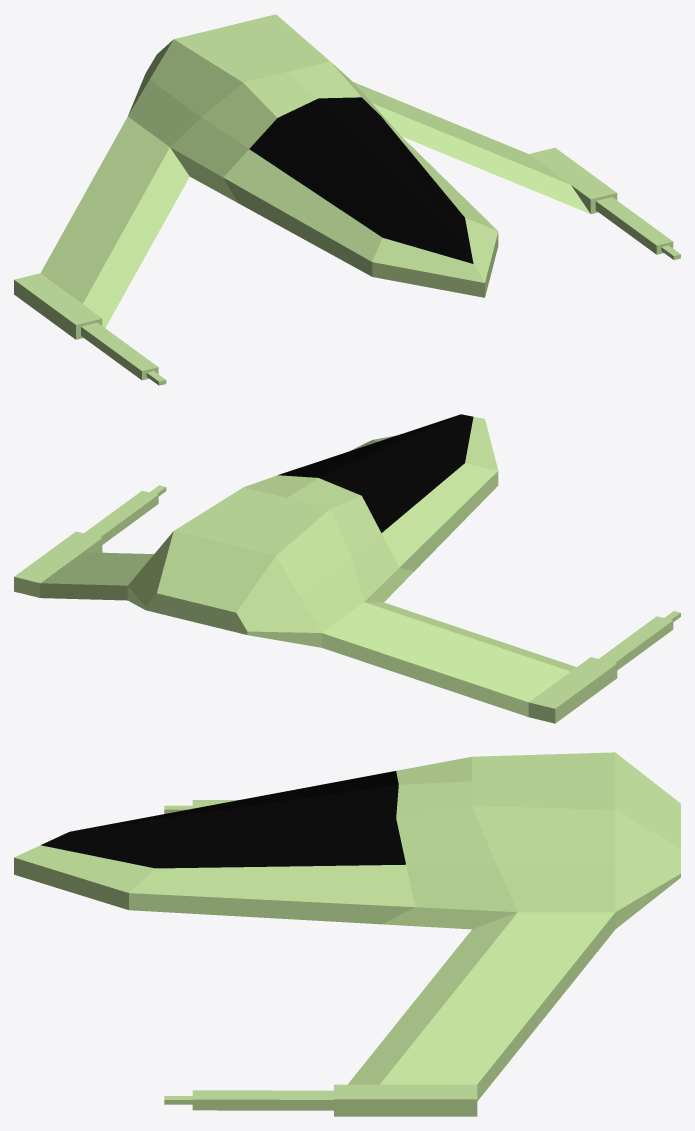
The model's file is SpaceShip.fbx.
3 views of the same model, one above another, from view 1: azimuth 30°, elevation 25°; view 2: azimuth 150°, elevation 25°; view 3: azimuth 270°, elevation 25° (orthographic). The views are drawn at different scales.
Visible parts, largest first — view 1: Cube; view 2: Cube; view 3: Cube.
Part boxes in pixels (left/top/right/bottom): Cube: left=14, top=14, right=680, bottom=385; Cube: left=14, top=414, right=680, bottom=723; Cube: left=14, top=752, right=680, bottom=1116.
Bounding box in the file's own units: 691 × 193 × 638.
